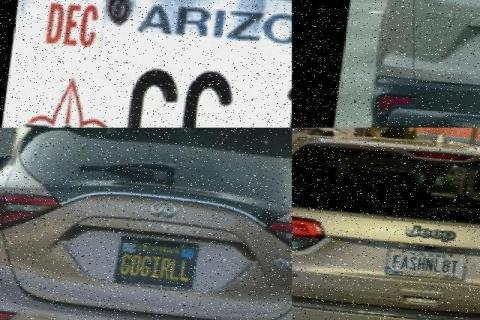LicensePlate: (84, 44, 292, 128), (105, 236, 202, 294), (376, 246, 462, 282)
